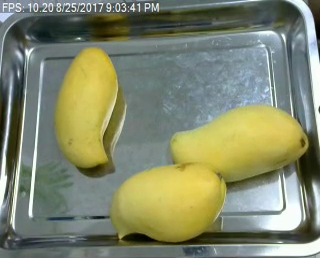Mango: (167, 104, 311, 177), (111, 163, 227, 245), (51, 46, 118, 167)
